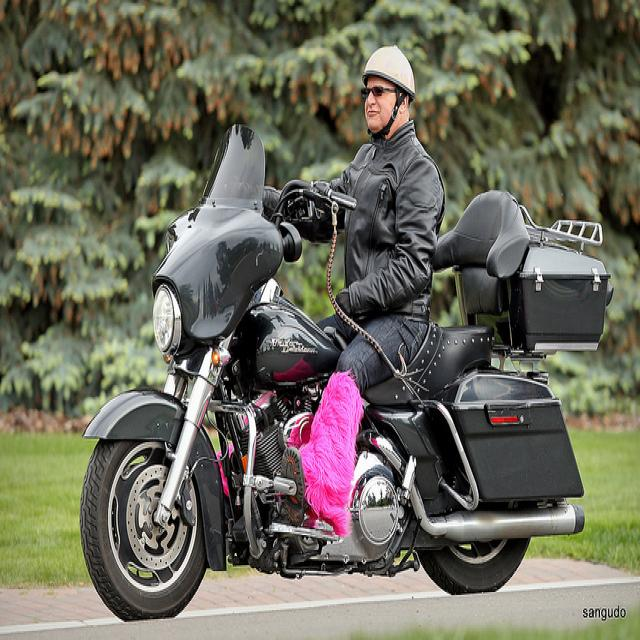motor: (78, 122, 616, 622)
